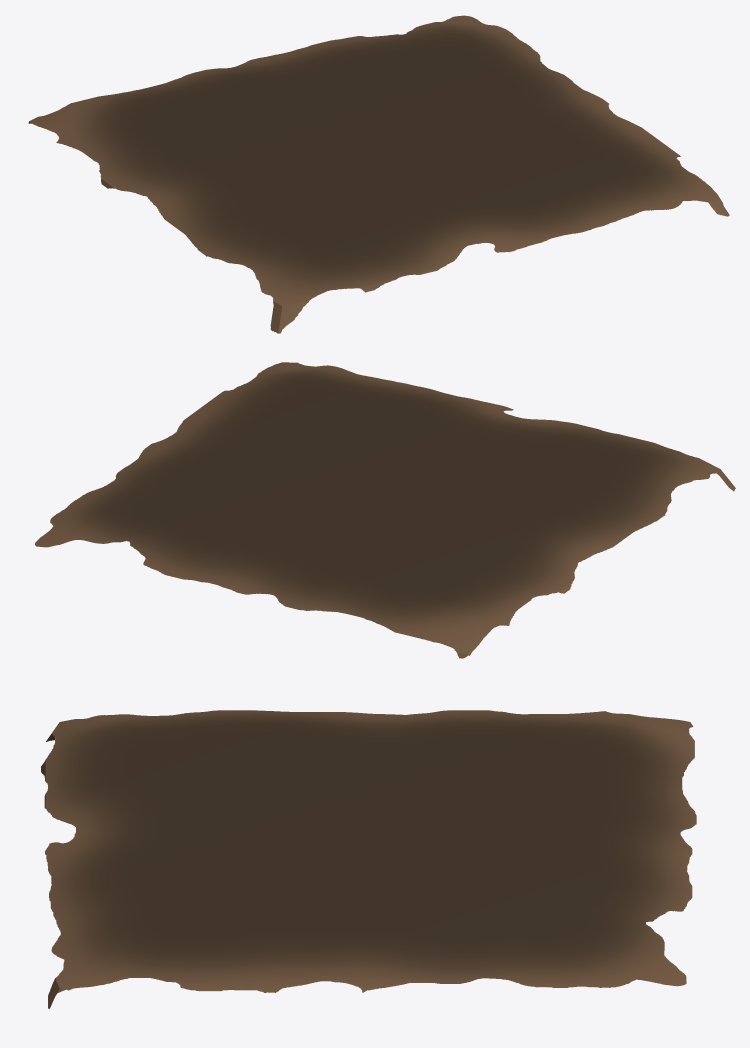
Rendered from G_Soil_Wet.fbx.
3 views of the same model, one above another, from view 1: azimuth 30°, elevation 25°; view 2: azimuth 150°, elevation 25°; view 3: azimuth 270°, elevation 25° (orthographic). The views are drawn at different scales.
Parts seen in each view (by area): view 1: lod1; view 2: lod1; view 3: lod1.
Boxes of the visible parts, box(x1,y1,x2,y2) form: lod1: box(28, 15, 729, 333); lod1: box(35, 362, 735, 658); lod1: box(41, 710, 696, 1008).
Size of what is drawn, in the model's own units: 100 by 6.88 by 100.
1 material, 1 textured.
